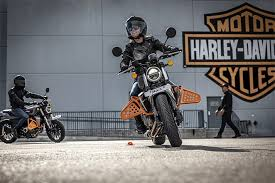motorcycle: (109, 27, 186, 149), (1, 87, 67, 144)
